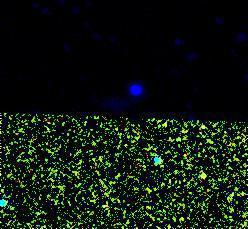star: (186, 162, 216, 192)
